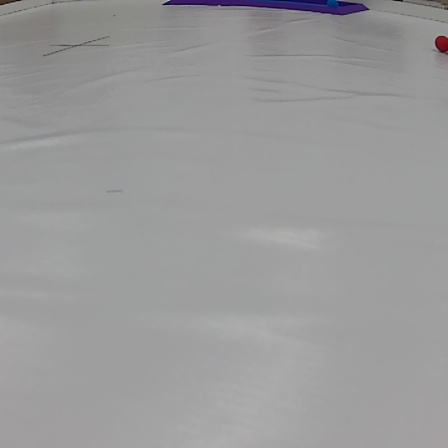blue: (323, 0, 339, 10)
blue_aim: (159, 0, 370, 18)
red: (433, 35, 448, 54)
